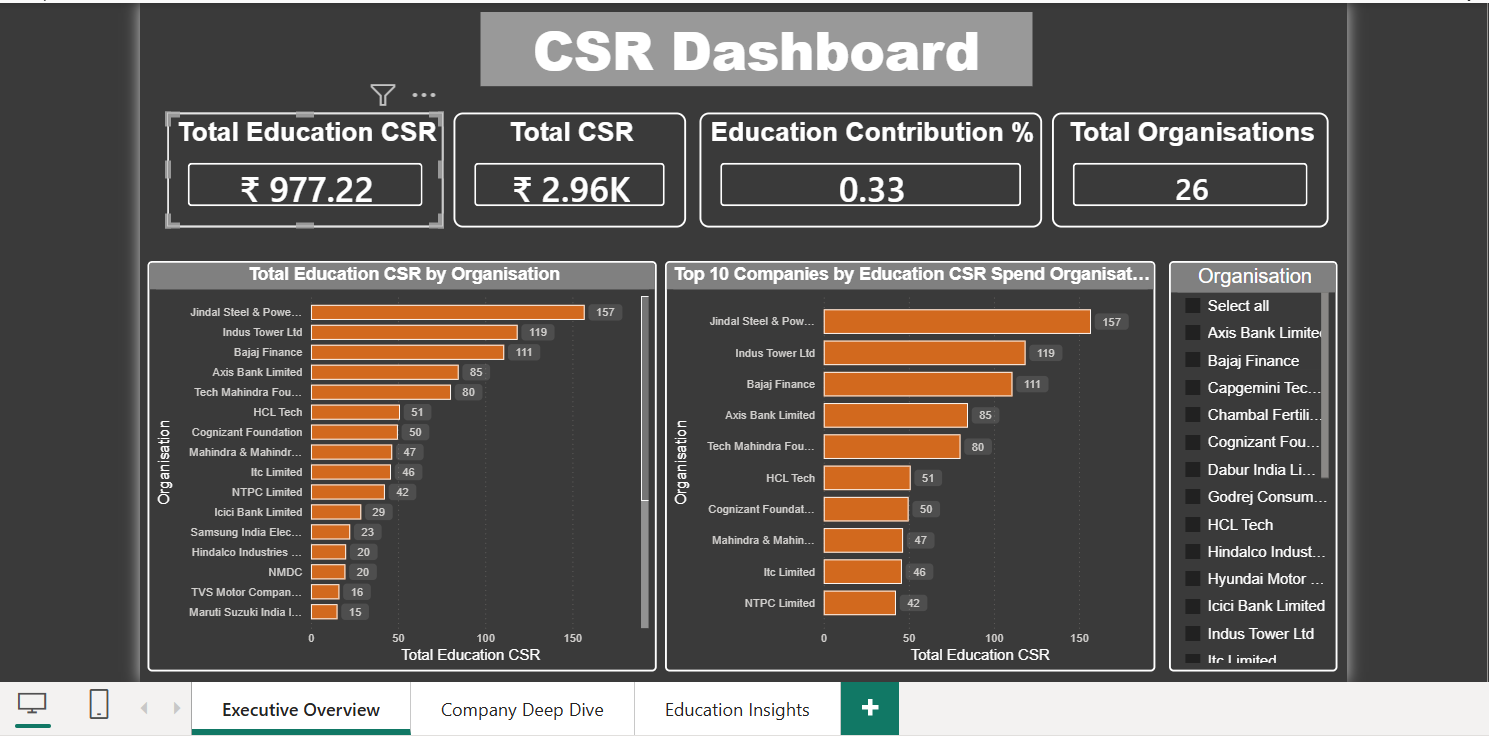

This screenshot's page, from the dashboard's own definition file:
{"tool":"powerbi","page":{"name":"Executive Overview","canvas":[1280,720],"ordinal":0},"visuals":[{"type":"cardVisual","title":"Total Education CSR","fields":{"Data":["Raw Data.Total Education CSR"]},"box":[28.3,115.8,293.3,121.7],"z":0},{"type":"cardVisual","title":"Total CSR","fields":{"Data":["Raw Data.Total CSR"]},"box":[331.7,115.8,246.7,121.7],"z":1000},{"type":"cardVisual","title":"Education Contribution %","fields":{"Data":["Raw Data.Education Contribution %"]},"box":[593.3,115.8,363.3,121.7],"z":2000},{"type":"cardVisual","title":"Total Organisations","fields":{"Data":["Raw Data.Total Organisations"]},"box":[966.7,115.8,293.3,121.7],"z":3000},{"type":"clusteredBarChart","title":"Total Education CSR by Organisation","fields":{"Category":["Raw Data.Organisation"],"Y":["Raw Data.Total Education CSR"]},"box":[8.3,273.3,540,435],"z":4000},{"type":"clusteredBarChart","title":"Top 10 Companies by Education CSR Spend Organisation","fields":{"Category":["Raw Data.Organisation"],"Y":["Raw Data.Total Education CSR"]},"box":[556.7,273.3,520,435],"z":5000},{"type":"slicer","title":"Organisation","fields":{"Values":["Raw Data.Organisation"]},"box":[1091.7,273.3,178.3,435],"z":6000},{"type":"textbox","box":[361.7,0,443.3,78.3],"z":7000},{"type":"textbox","title":"CSR Dashboard","box":[361.7,10,585,78.3],"z":8000}]}

Visuals, with their boxes on the page's 1280x720 design canvas (x1, y1, x2, y2). These are canvas units, not pixel positions in the 1489x736 screenshot, which may show the page scaled, cropped or inside an application window:
"Total Education CSR" cardVisual: box=[28, 116, 322, 238]
"Total CSR" cardVisual: box=[332, 116, 578, 238]
"Education Contribution %" cardVisual: box=[593, 116, 957, 238]
"Total Organisations" cardVisual: box=[967, 116, 1260, 238]
"Total Education CSR by Organisation" clusteredBarChart: box=[8, 273, 548, 708]
"Top 10 Companies by Education CSR Spend Organisation" clusteredBarChart: box=[557, 273, 1077, 708]
"Organisation" slicer: box=[1092, 273, 1270, 708]
textbox: box=[362, 0, 805, 78]
"CSR Dashboard" textbox: box=[362, 10, 947, 88]
